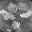people: (7, 3, 17, 13), (20, 10, 32, 18), (4, 13, 16, 20), (11, 21, 20, 29), (0, 9, 9, 16)
